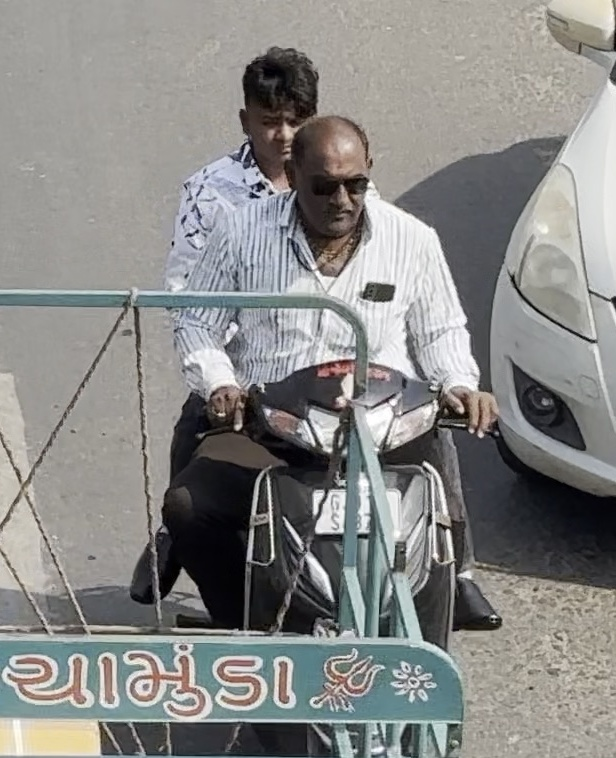BikeWithRider: (121, 37, 512, 734)
NoHelmet: (280, 111, 384, 237), (228, 42, 326, 172)
